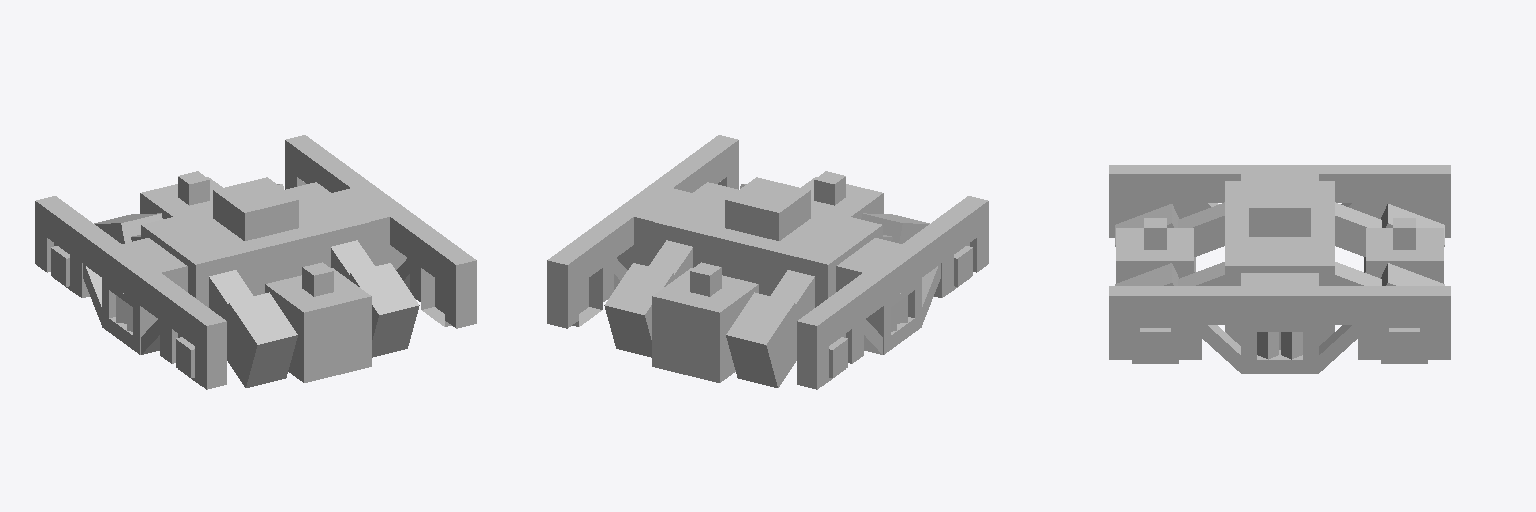
Rendered from frame.obj.
3 views of the same model, side by side, from view 1: azimuth 30°, elevation 25°; view 2: azimuth 150°, elevation 25°; view 3: azimuth 270°, elevation 25° (orthographic).
Visible parts, largest first — view 1: cube_2, cube_48, cube_13, cube_49, cube_15, cube_0, cube_12, cube_11, cube_4, cube_3, cube_8, cube_47 (+14 smaller); view 2: cube_2, cube_48, cube_4, cube_49, cube_5, cube_0, cube_6, cube_11, cube_13, cube_3, cube_9, cube_31 (+13 smaller); view 3: cube_49, cube_48, cube_2, cube_0, cube_4, cube_13, cube_8, cube_9, cube_37, cube_11, cube_29, cube_39 (+22 smaller).
Boxes of the visible parts, box(x1,y1,x2,y2) form: cube_2: box(141, 182, 370, 307); cube_48: box(35, 196, 226, 353); cube_13: box(265, 268, 371, 382); cube_49: box(285, 135, 476, 292); cube_15: box(224, 292, 297, 387); cube_0: box(213, 177, 298, 240); cube_12: box(349, 263, 419, 357); cube_11: box(332, 188, 389, 265); cube_4: box(140, 177, 222, 218); cube_3: box(122, 238, 187, 291); cube_8: box(209, 270, 252, 318); cube_47: box(445, 285, 476, 328); cube_2: box(653, 182, 882, 307); cube_48: box(797, 196, 988, 353); cube_4: box(652, 268, 758, 382); cube_49: box(547, 135, 738, 292); cube_5: box(726, 292, 799, 387); cube_0: box(725, 177, 810, 240); cube_6: box(604, 263, 674, 357); cube_11: box(634, 188, 691, 265); cube_13: box(801, 177, 883, 218); cube_3: box(836, 238, 901, 291); cube_9: box(771, 270, 814, 318); cube_31: box(547, 285, 578, 328); cube_49: box(1109, 286, 1450, 324); cube_48: box(1109, 165, 1450, 202); cube_2: box(1225, 181, 1334, 345); cube_0: box(1249, 182, 1310, 236); cube_4: box(1366, 228, 1443, 283); cube_13: box(1116, 228, 1193, 283); cube_8: box(1178, 202, 1224, 256); cube_9: box(1335, 202, 1381, 256); cube_37: box(1241, 350, 1318, 373); cube_11: box(1241, 273, 1318, 349); cube_29: box(1389, 328, 1419, 359); cube_39: box(1140, 328, 1170, 359).
Size of the model in its own units: 2.5 by 1.08 by 2.75.